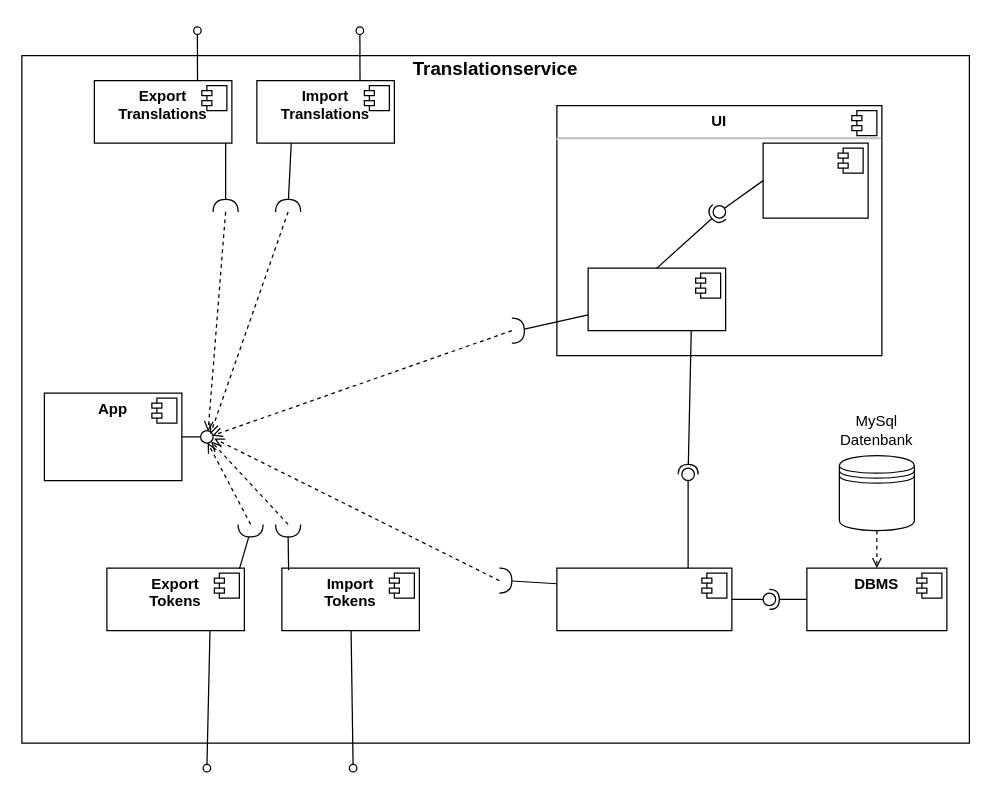
Image size: 991x800. Some labels were removed from this diagram. The shapes that lost their labels are listed below. From the top down, each one's box as (x1, y1, x2, y2) in pixels, then its label:
(762, 142, 868, 218): View
(587, 267, 726, 331): Controller
(556, 567, 732, 631): Datenerhaltung
